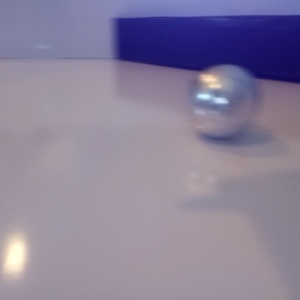zone: (109, 11, 300, 51)
